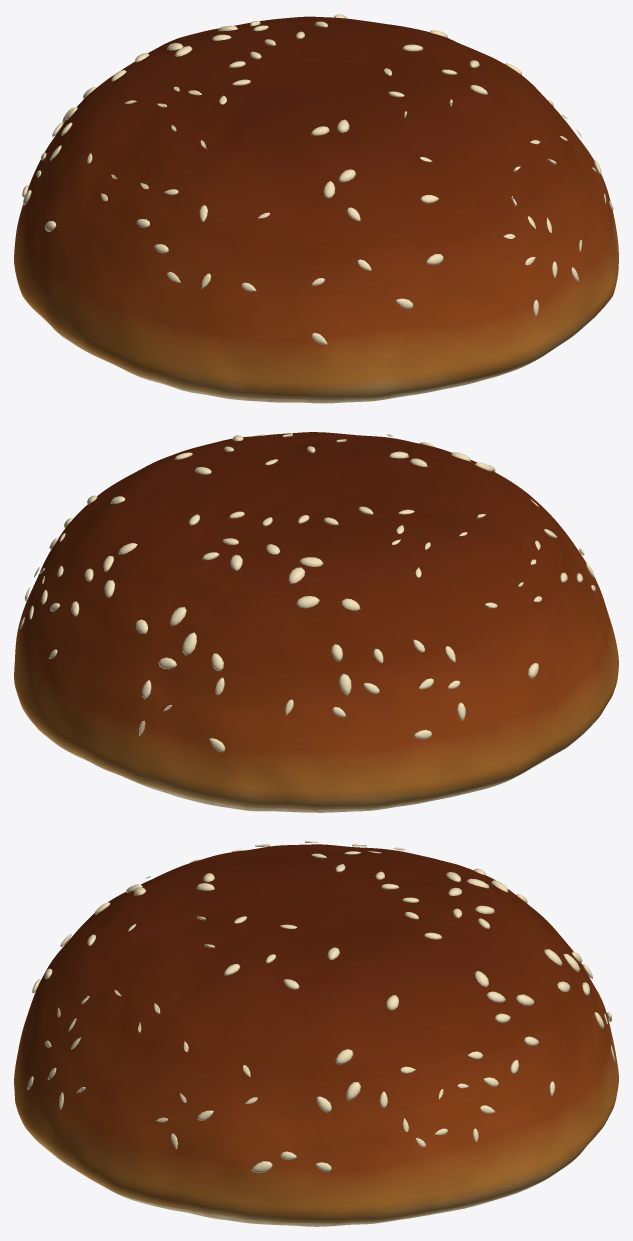
Rendered from bun_top.glb.
The picture shows the model from 3 angles, top to bottom: view 1: azimuth 30°, elevation 25°; view 2: azimuth 150°, elevation 25°; view 3: azimuth 270°, elevation 25°; orthographic projection.
Parts seen in each view (by area): view 1: bun_top_web, bun_top_sesame_web; view 2: bun_top_web, bun_top_sesame_web; view 3: bun_top_web, bun_top_sesame_web.
Boxes of the visible parts, <box> form: bun_top_web: <box>14,16,618,403</box>; bun_top_sesame_web: <box>22,14,613,344</box>; bun_top_web: <box>14,432,618,812</box>; bun_top_sesame_web: <box>20,433,595,752</box>; bun_top_web: <box>14,844,618,1226</box>; bun_top_sesame_web: <box>27,841,615,1172</box>.
Bounding box in the file's own units: 0.1116 × 0.0453 × 0.1115.
2 materials, 1 textured.
